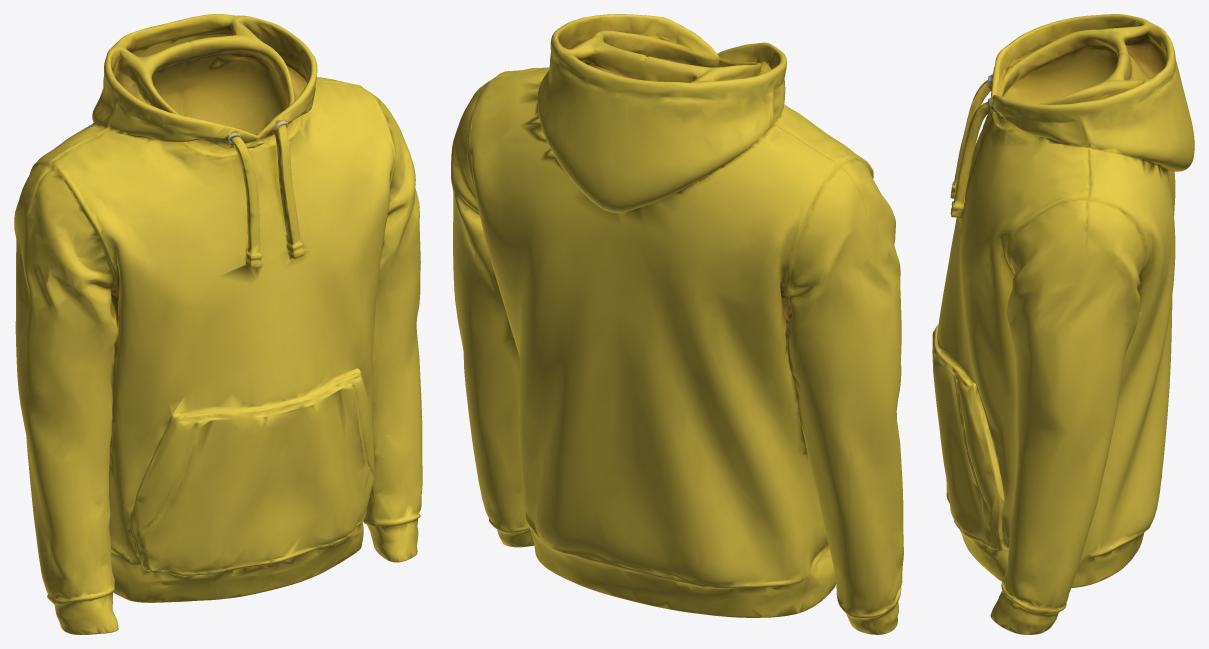
The picture shows the model from 3 angles, left to right: view 1: azimuth 30°, elevation 25°; view 2: azimuth 150°, elevation 25°; view 3: azimuth 270°, elevation 25°; orthographic projection. The views are drawn at different scales.
Parts seen in each view (by area): view 1: tripo_node_766756c8-b8c7-4645-bd03-64e647662b18; view 2: tripo_node_766756c8-b8c7-4645-bd03-64e647662b18; view 3: tripo_node_766756c8-b8c7-4645-bd03-64e647662b18.
Part boxes in pixels (left/top/right/bottom): tripo_node_766756c8-b8c7-4645-bd03-64e647662b18: left=14, top=14, right=422, bottom=634; tripo_node_766756c8-b8c7-4645-bd03-64e647662b18: left=451, top=14, right=903, bottom=634; tripo_node_766756c8-b8c7-4645-bd03-64e647662b18: left=932, top=14, right=1194, bottom=634.
Size of the model in its own units: 0.7948 by 0.9998 by 0.4737.
Materials: 1 (1 with a texture image).
